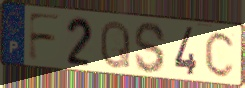2: (64, 14, 97, 71)
4: (172, 25, 198, 77)
C: (203, 30, 237, 80)
F: (27, 11, 63, 63)
Q: (99, 19, 132, 71)
S: (133, 20, 167, 76)
